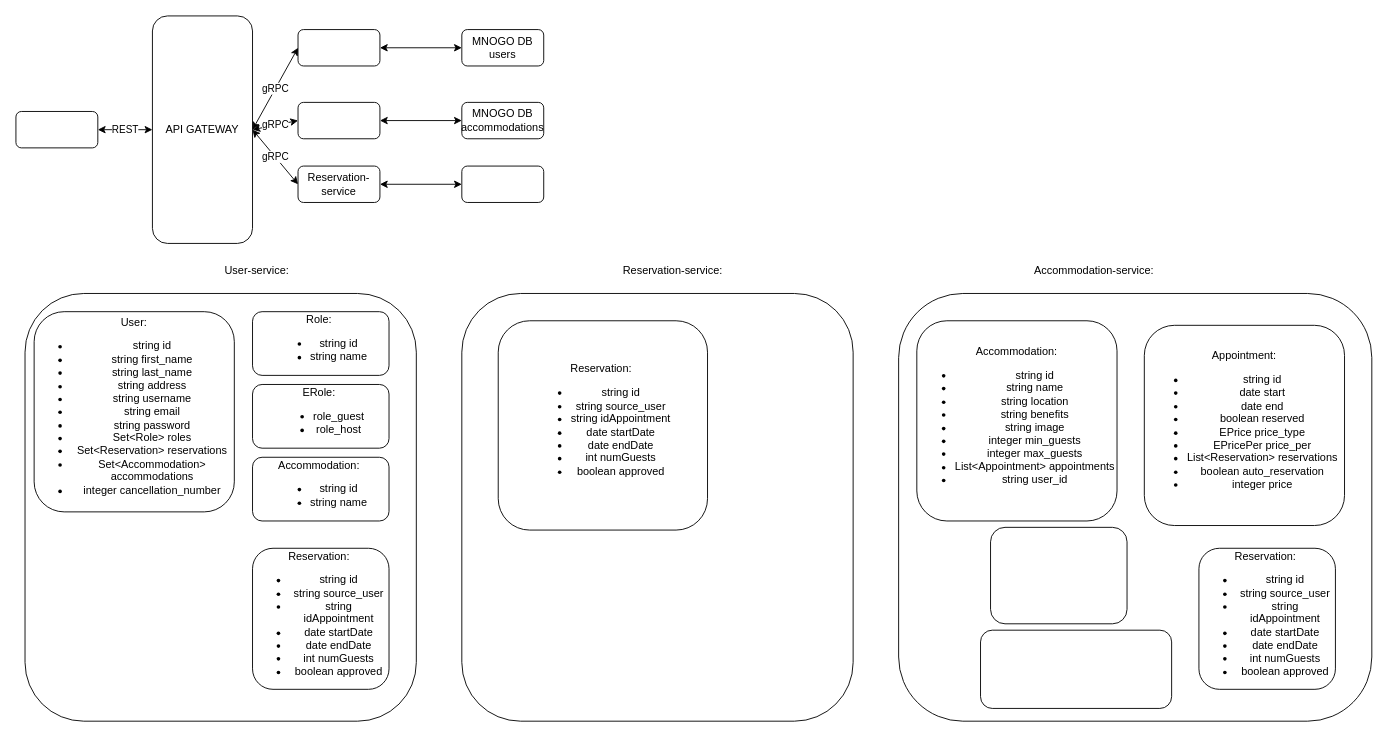
Some shapes in this 1388 by 737 pixel diagram are drawn without their labels. The centre of each missing label's shape, as x and y in pixels:
"Accommdation-service" goes at [338,120].
"Client" goes at [56,129].
"EPrice: regular holiday weekend summertime" goes at [1058,575].
"EPricePer: price_per_guest price_per_accommodation" goes at [1076,668].
"MNOGO DB reservations" goes at [502,183].
"User-service" goes at [338,47].
